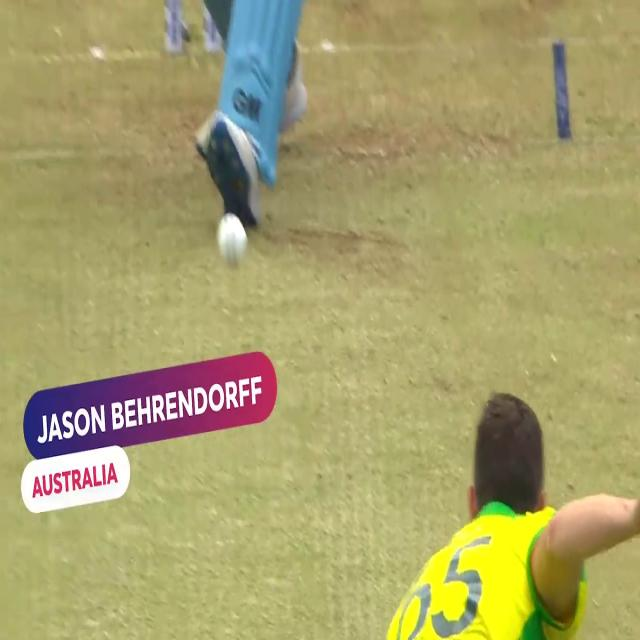ball: (214, 210, 248, 266)
